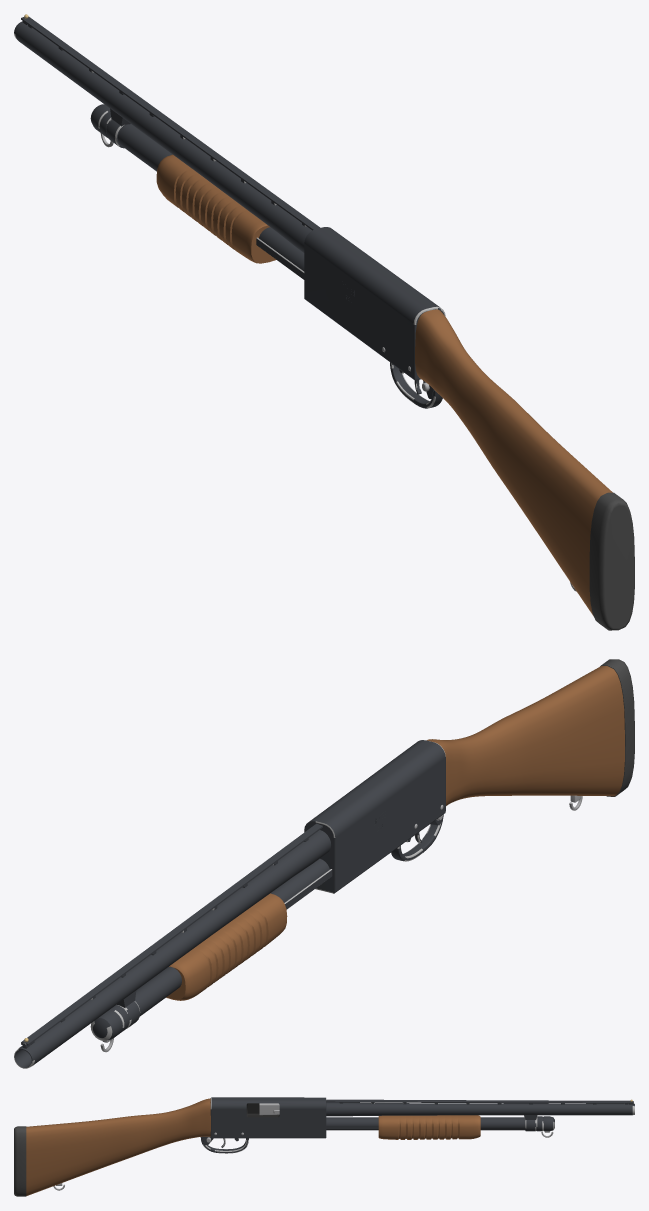
3 views of the same model, one above another, from view 1: azimuth 30°, elevation 25°; view 2: azimuth 150°, elevation 25°; view 3: azimuth 270°, elevation 25° (orthographic). The views are drawn at different scales.
Visible parts, largest first — view 1: static_butt, static_barrel, static, bolt; view 2: static_butt, static_barrel, static, bolt; view 3: static_butt, static_barrel, static, bolt.
Boxes of the visible parts, x1,y1,x2,y2 form: static_butt: [415, 309, 634, 630]; static_barrel: [14, 14, 320, 271]; static: [304, 227, 445, 408]; bolt: [156, 154, 304, 279]; static_butt: [427, 659, 634, 810]; static_barrel: [14, 823, 330, 1068]; static: [304, 740, 445, 893]; bolt: [166, 869, 332, 1000]; static_butt: [14, 1098, 210, 1196]; static_barrel: [326, 1099, 634, 1137]; static: [200, 1097, 326, 1153]; bolt: [259, 1103, 480, 1139].
Bounding box in the file's own units: 0.0408 × 0.1936 × 1.13.
